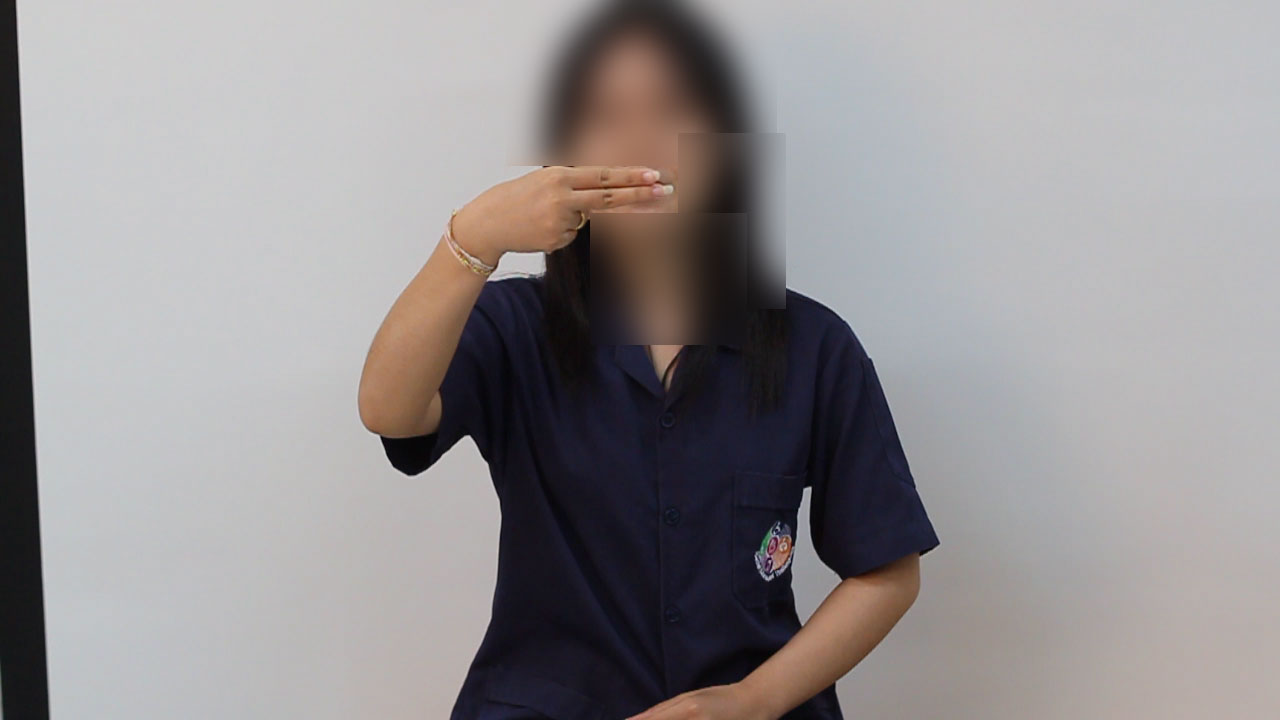hor: (452, 157, 684, 279)
